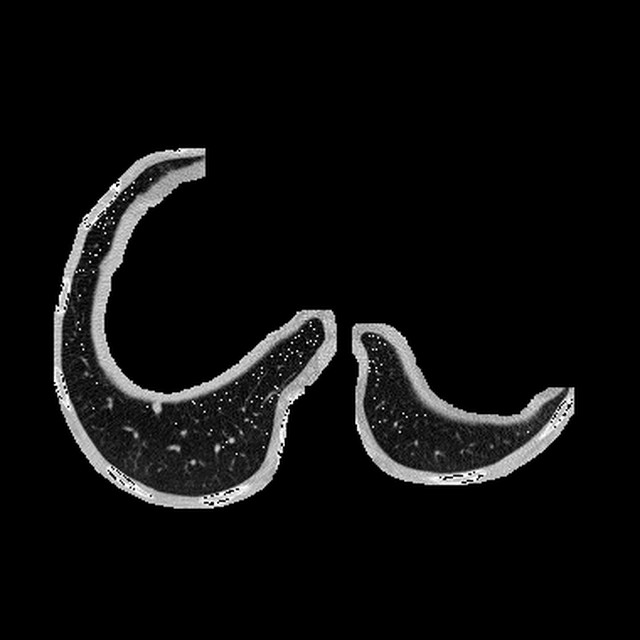PN: (152, 403, 162, 413)
